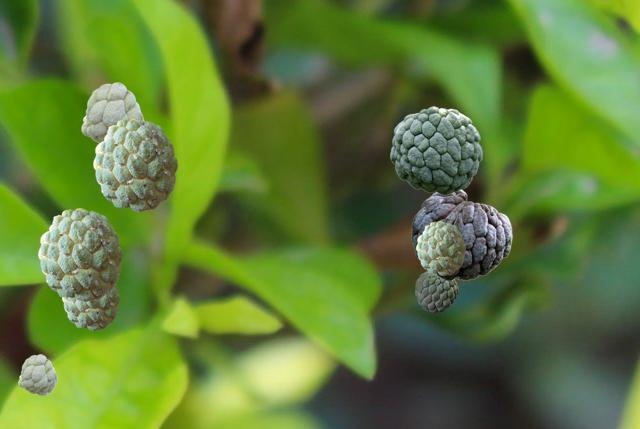atis: (411, 190, 511, 279), (390, 106, 481, 194), (93, 118, 176, 210), (38, 208, 121, 300), (81, 82, 143, 142), (416, 221, 464, 274), (62, 284, 118, 329), (415, 271, 457, 311), (18, 354, 56, 394)
